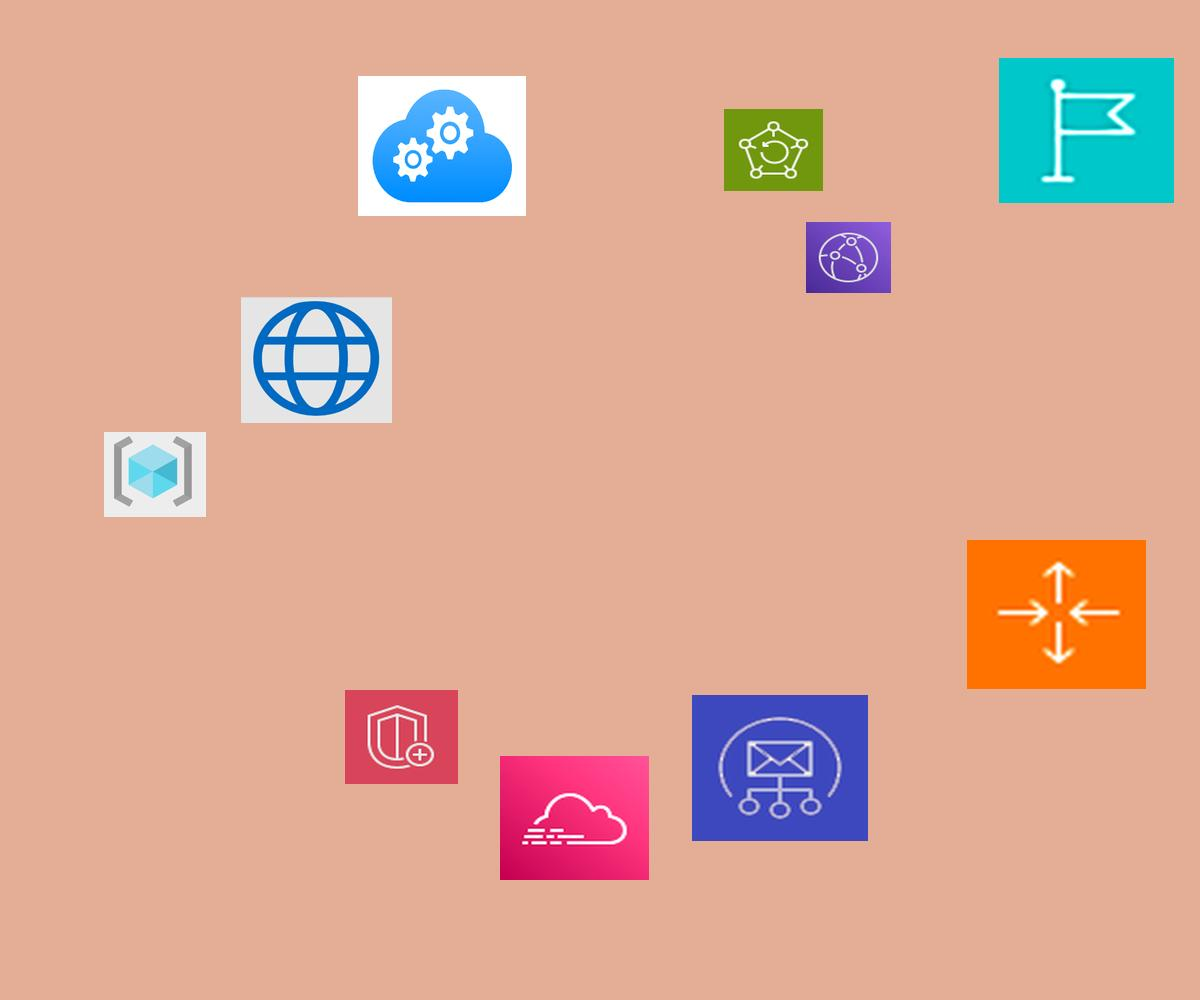AWS-Backup: (724, 109, 823, 191)
AWS-CloudFront: (806, 222, 891, 293)
AWS-CloudTrail: (500, 756, 649, 880)
AWS-Region: (999, 58, 1174, 203)
AWS-Scaling-group: (967, 540, 1146, 689)
AWS-Shield: (345, 690, 458, 784)
AWS-Simple-Email-Service: (692, 695, 868, 841)
Azure_cloud_services: (358, 76, 526, 216)
Azure_http: (241, 297, 392, 423)
Azure_resource_group: (104, 432, 206, 517)
